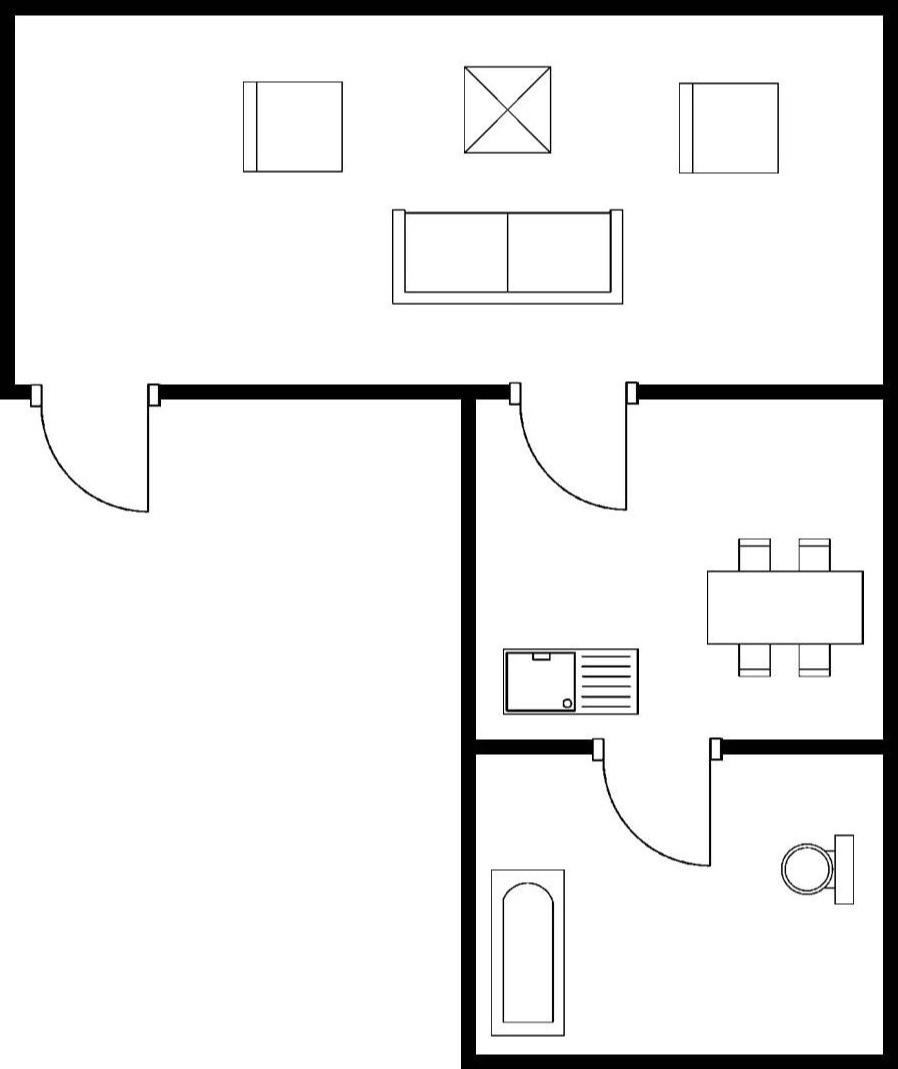dining_table: (698, 532, 868, 684)
sink: (497, 642, 642, 719)
sofa: (386, 205, 628, 310)
toilet: (776, 826, 857, 909)
tub: (484, 863, 568, 1039)
